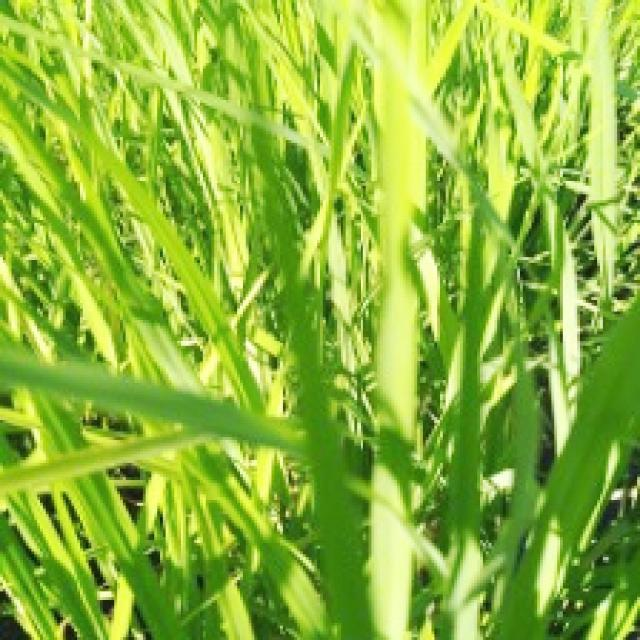health: (375, 2, 420, 486)
